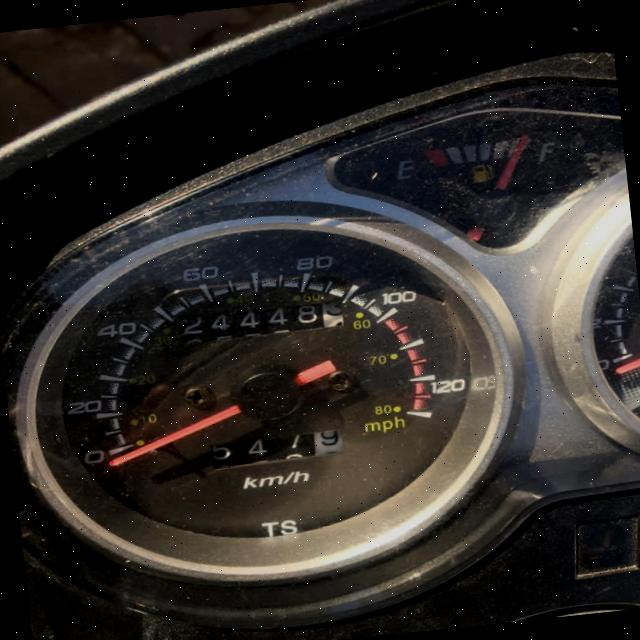odometer: (176, 298, 344, 347)
